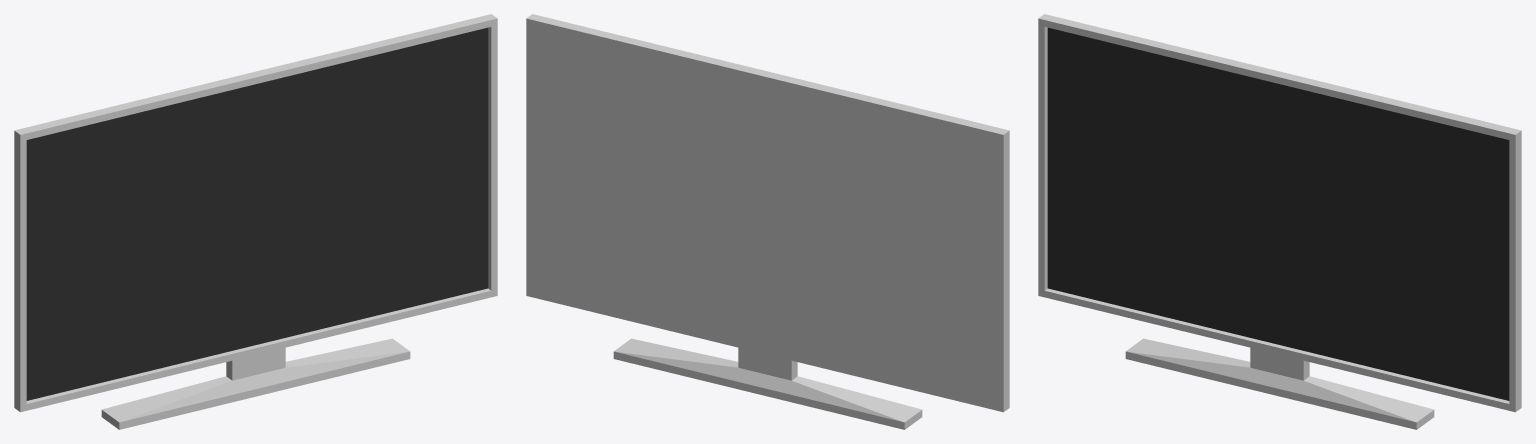
The picture shows the model from 3 angles, left to right: view 1: azimuth 30°, elevation 25°; view 2: azimuth 150°, elevation 25°; view 3: azimuth 330°, elevation 25°; orthographic projection.
Parts seen in each view (by area): view 1: Cube; view 2: Cube; view 3: Cube.
Boxes of the visible parts, x1,y1,x2,y2 form: Cube: (14,14,497,429); Cube: (526,14,1009,429); Cube: (1038,14,1521,429).
Bounding box in the file's own units: 1.37 × 0.8613 × 0.0879.
1 material, 1 textured.
